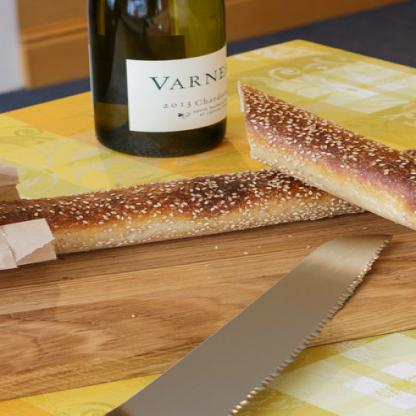knife: (0, 230, 388, 415)
